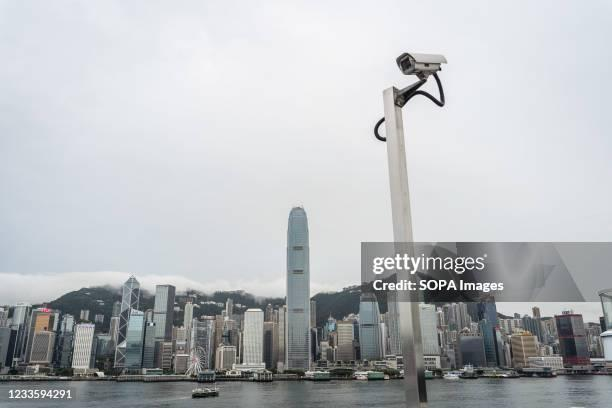------------------------------: (395, 48, 449, 80)
